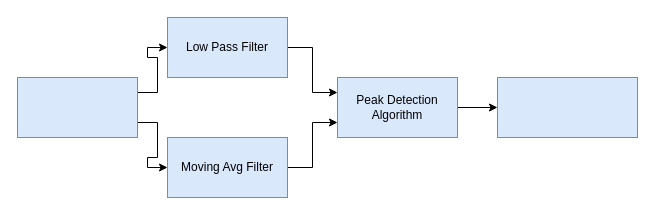
Some shapes in this 655 by 215 pixel diagram are drawn without their labels. The centre of each missing label's shape, as x and y in pixels:
Mean / Instantaneous Respiration Rate: (567,107)
Raw Respiration Signal: (77,107)
